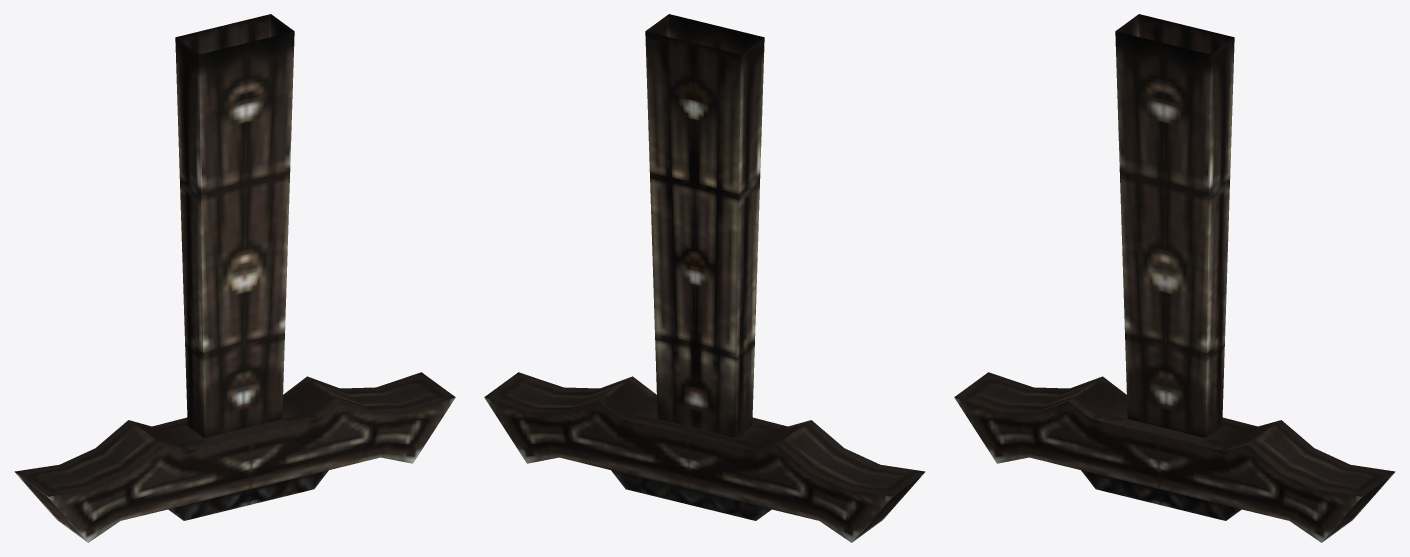
The model's file is Dagger_grip_default.FBX.
3 views of the same model, side by side, from view 1: azimuth 30°, elevation 25°; view 2: azimuth 150°, elevation 25°; view 3: azimuth 330°, elevation 25° (orthographic).
Parts seen in each view (by area): view 1: Dagger_grip_default; view 2: Dagger_grip_default; view 3: Dagger_grip_default.
Part boxes in pixels (left/top/right/bottom): Dagger_grip_default: left=14, top=14, right=455, bottom=542; Dagger_grip_default: left=484, top=14, right=925, bottom=542; Dagger_grip_default: left=954, top=14, right=1395, bottom=542.
Size of the model in its own units: 24.88 by 26.87 by 3.62.
1 material, 1 textured.
